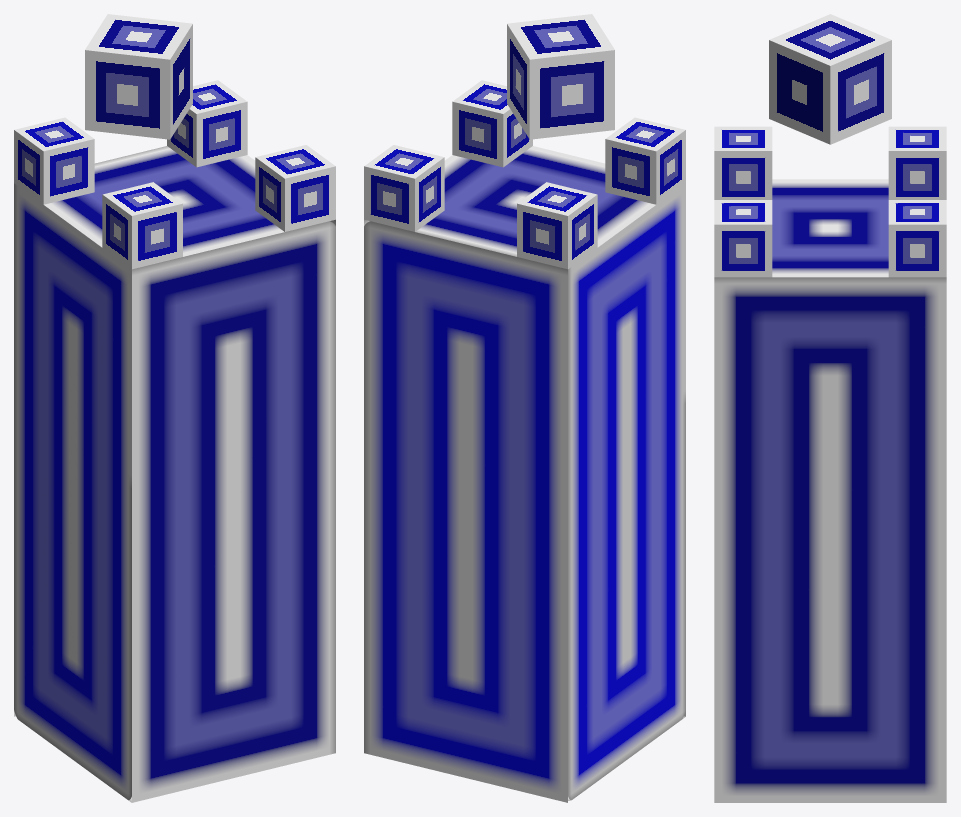
Rendered from Water Tower.fbx.
The picture shows the model from 3 angles, left to right: view 1: azimuth 30°, elevation 25°; view 2: azimuth 150°, elevation 25°; view 3: azimuth 270°, elevation 25°; orthographic projection.
Parts seen in each view (by area): view 1: Base, Rift, SW Corner, SE Corner, NE Corner, NW Corner; view 2: Base, Rift, SW Corner, SE Corner, NW Corner, NE Corner; view 3: Base, Rift, NE Corner, NW Corner, SW Corner, SE Corner.
Part boxes in pixels (box(x1,y1,x2,y2)): Base: box(14, 146, 335, 802); Rift: box(85, 14, 192, 139); SW Corner: box(14, 117, 94, 204); SE Corner: box(102, 182, 182, 269); NE Corner: box(255, 145, 335, 231); NW Corner: box(167, 80, 247, 167); Base: box(364, 146, 685, 802); Rift: box(507, 14, 614, 139); SW Corner: box(517, 182, 597, 269); SE Corner: box(605, 117, 685, 204); NW Corner: box(364, 145, 444, 231); NE Corner: box(452, 80, 532, 167); Base: box(714, 179, 946, 802); Rift: box(769, 14, 891, 144); NE Corner: box(714, 200, 772, 277); NW Corner: box(888, 200, 946, 277); SW Corner: box(888, 126, 946, 199); SE Corner: box(714, 126, 772, 199).
Size of the model in its own units: 25 by 82.81 by 25.
Materials: 3 (3 with a texture image).
